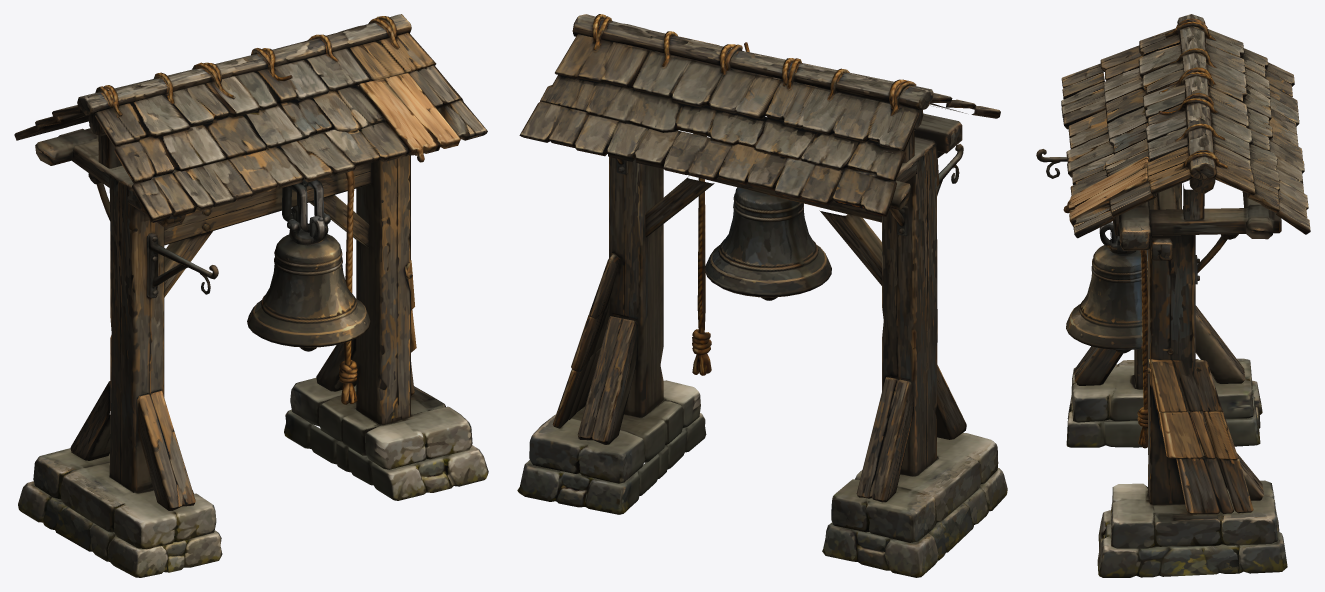
File: act1_extras_v1_bell_frame.glb
3 views of the same model, side by side, from view 1: azimuth 30°, elevation 25°; view 2: azimuth 150°, elevation 25°; view 3: azimuth 270°, elevation 25° (orthographic). The views are drawn at different scales.
Parts seen in each view (by area): view 1: tripo_9b5b6628_2cf6_4abc_bc59_c884b4709ea2; view 2: tripo_9b5b6628_2cf6_4abc_bc59_c884b4709ea2; view 3: tripo_9b5b6628_2cf6_4abc_bc59_c884b4709ea2.
Part boxes in pixels (x1,y1,x2,y2): tripo_9b5b6628_2cf6_4abc_bc59_c884b4709ea2: (14, 14, 488, 577); tripo_9b5b6628_2cf6_4abc_bc59_c884b4709ea2: (517, 14, 1007, 577); tripo_9b5b6628_2cf6_4abc_bc59_c884b4709ea2: (1036, 14, 1310, 577).
Size of the model in its own units: 0.9351 by 0.9995 by 0.6108.
Materials: 1 (1 with a texture image).
